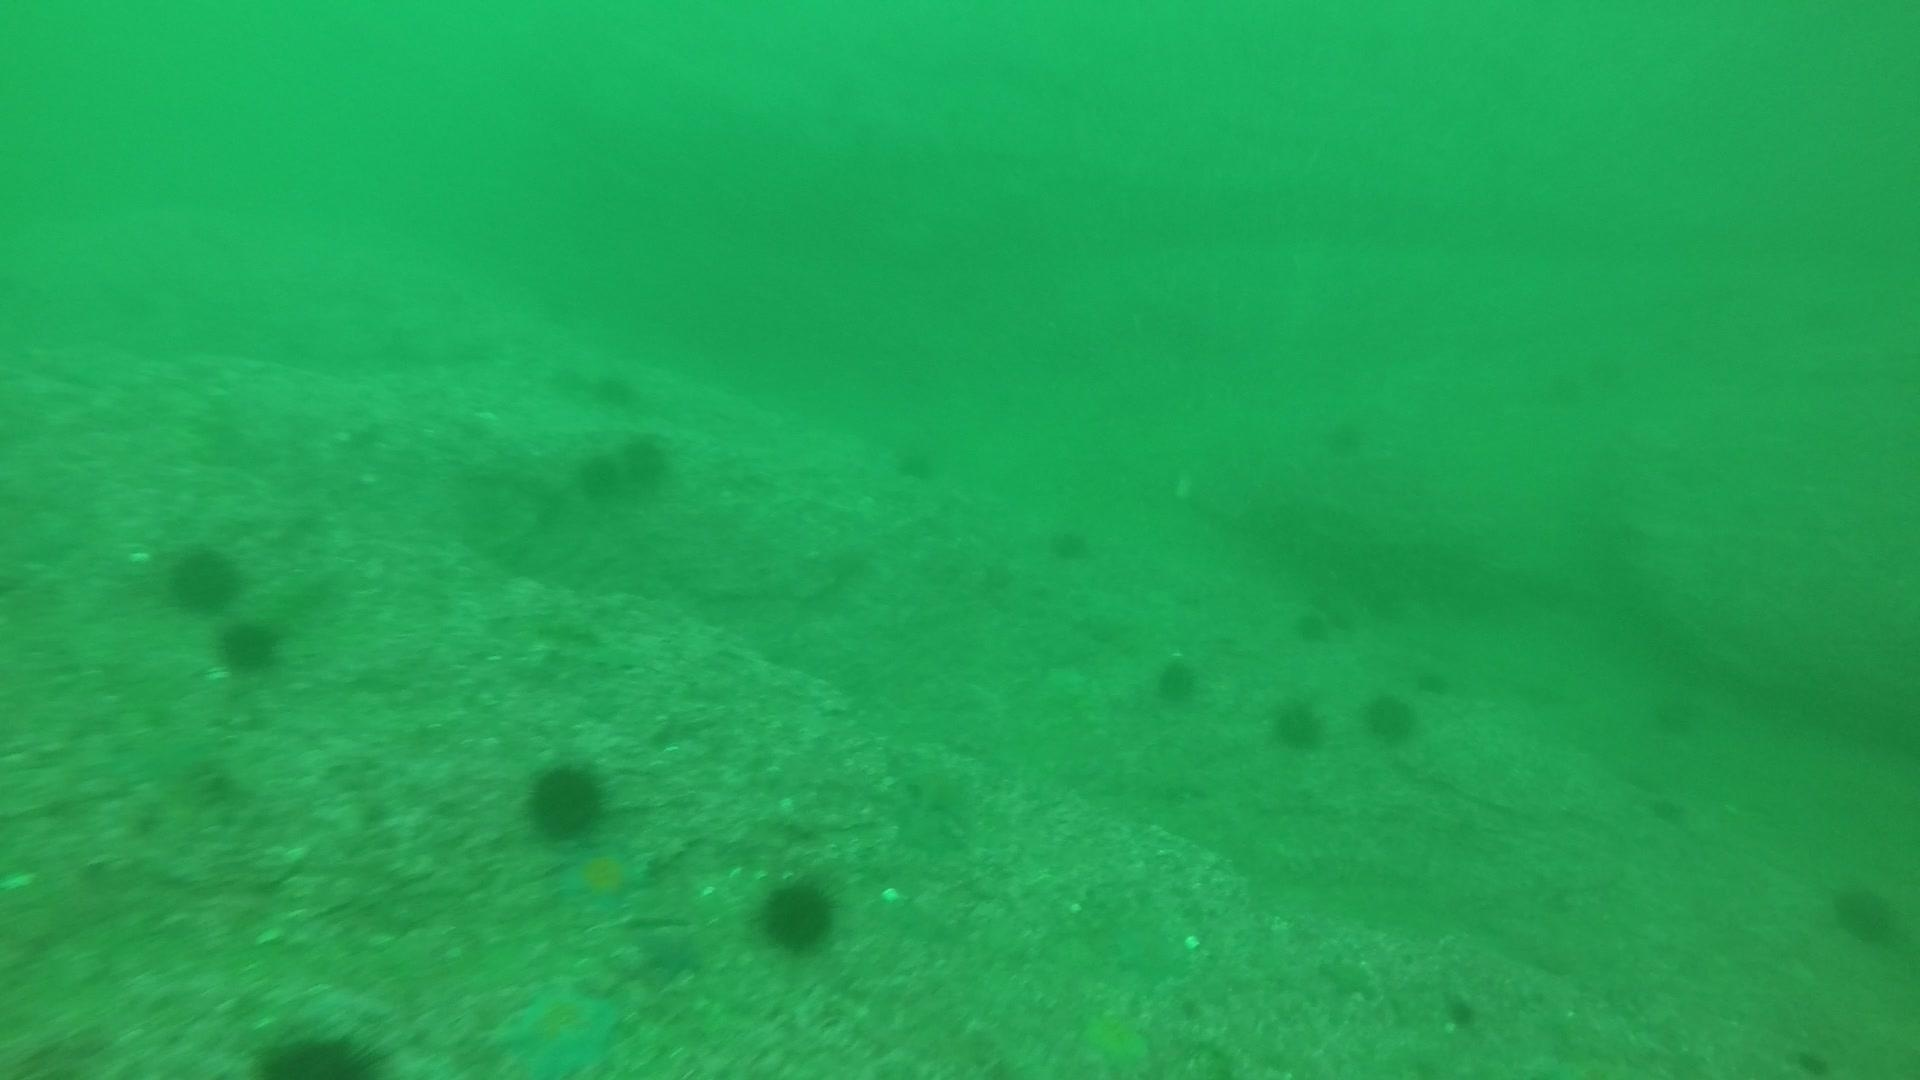echinus: (520, 754, 612, 847), (752, 870, 843, 957), (252, 1021, 389, 1076), (161, 538, 247, 616), (1826, 876, 1903, 949), (212, 615, 287, 679), (564, 454, 645, 505), (1358, 686, 1424, 748), (1266, 692, 1329, 756), (618, 429, 684, 488), (1311, 417, 1370, 476), (1149, 651, 1207, 708), (587, 364, 641, 411), (1288, 599, 1340, 647), (890, 436, 942, 485), (1043, 520, 1095, 566), (1408, 657, 1457, 699), (1654, 695, 1701, 737), (1543, 365, 1584, 407), (1580, 353, 1621, 396)
starfish: (487, 975, 626, 1077), (884, 738, 984, 829), (551, 839, 653, 916), (1069, 1000, 1158, 1077)
